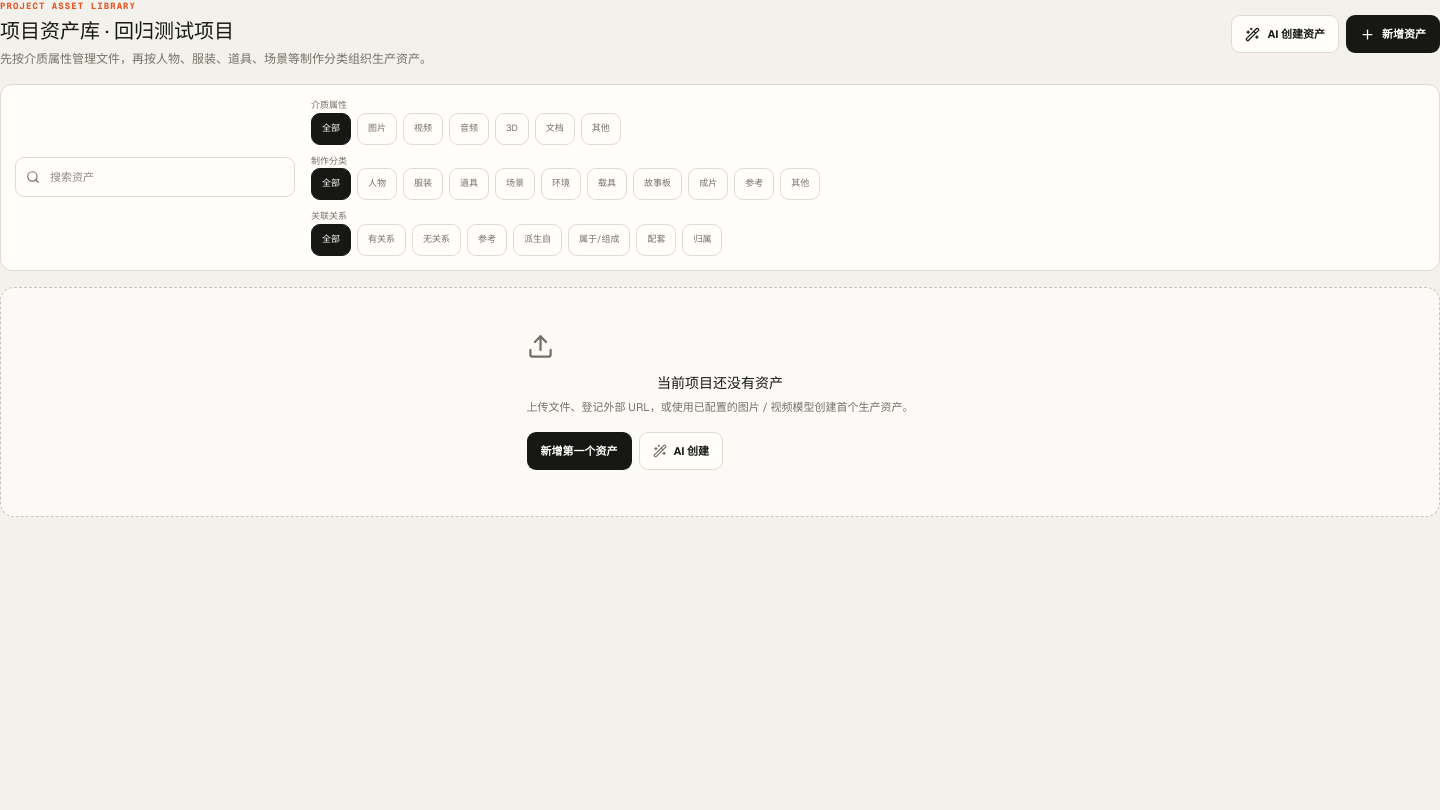
关键按钮点击回归 › AssetManager 点击“AI 创建资产”显示生成 dialog
This screenshot has width=1440, height=810.
What coordinates should you click on to do the following:
click the button "AI 创建资产"
I would click on:
 (1285, 34)
Its box is [1231,15,1339,53].
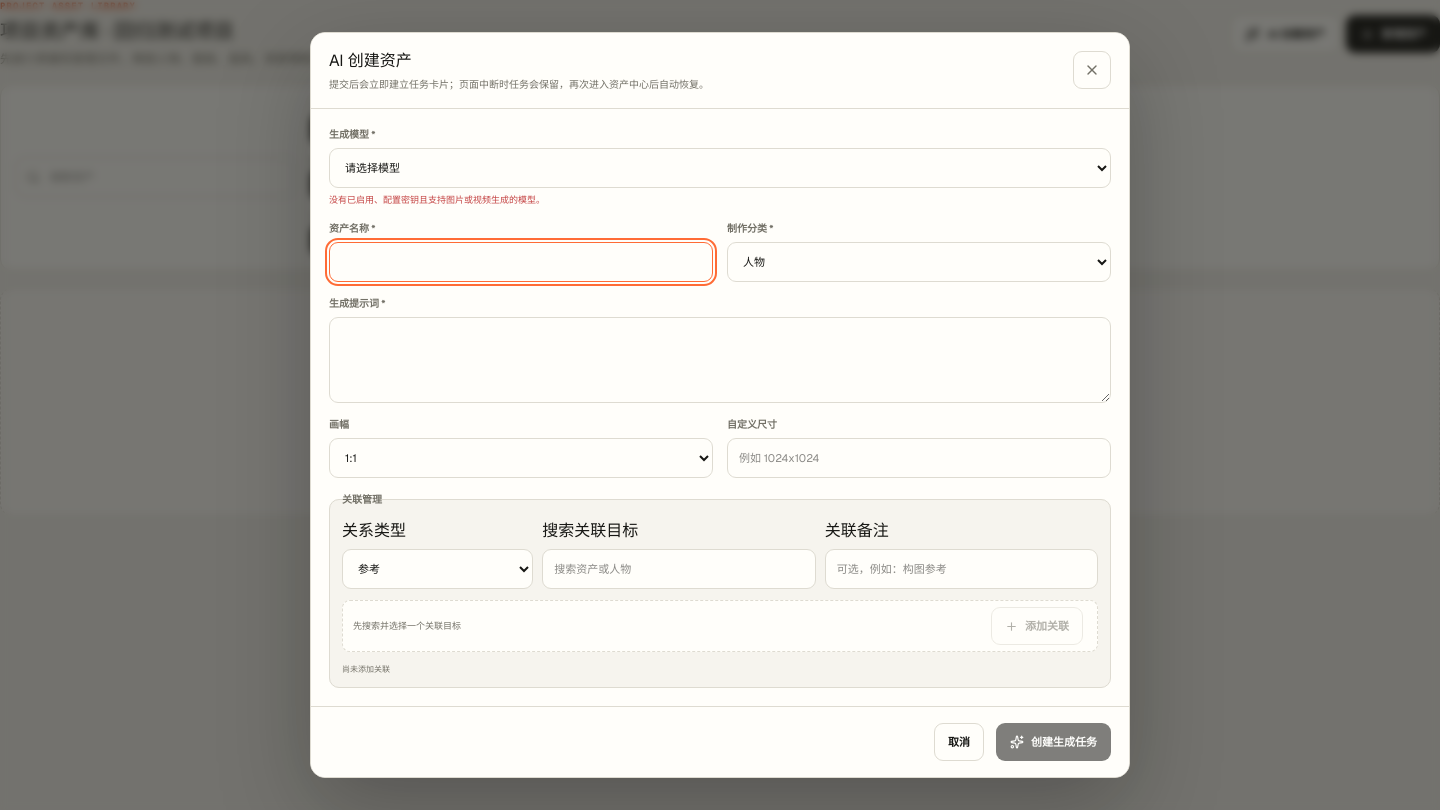
Now the dialog "AI 创建资产" is shown, box [310,32,1130,778]
Now the dropdown labelled "生成模型 *" is shown, box [329,148,1111,188]
Now the text box labelled "生成提示词 *" is shown, box [329,317,1111,403]
